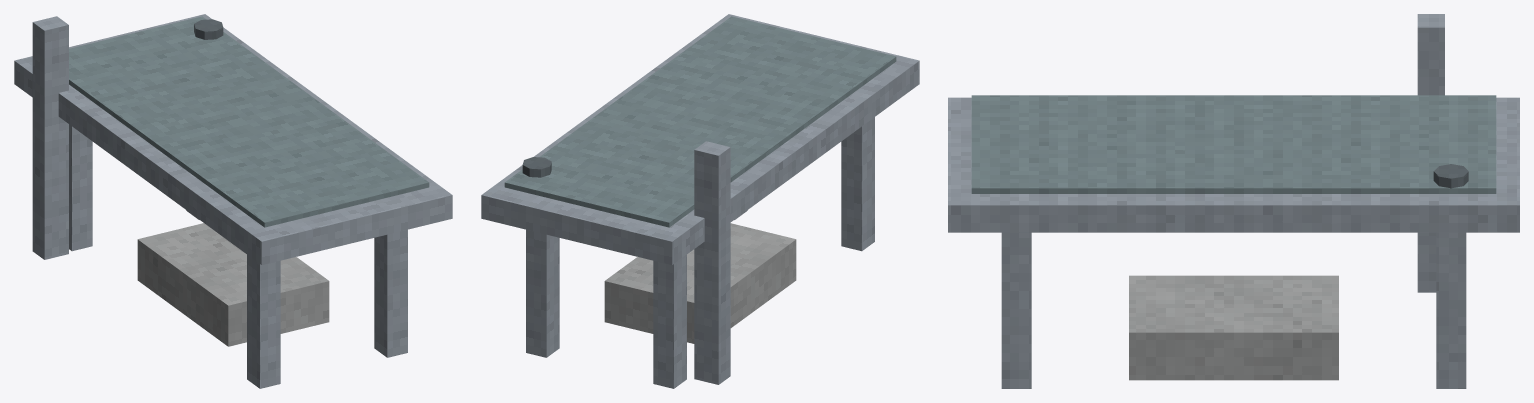
File: level_blockout_mortuary_prep_table.glb
3 renders of one model, left to right at view 1: azimuth 30°, elevation 25°; view 2: azimuth 150°, elevation 25°; view 3: azimuth 270°, elevation 25°, orthographic. The views are drawn at different scales.
Parts seen in each view (by area): view 1: level_blockout_mortuary_prep_table; view 2: level_blockout_mortuary_prep_table; view 3: level_blockout_mortuary_prep_table.
Boxes of the visible parts, x1=… form: level_blockout_mortuary_prep_table: x1=14, y1=14, x2=452, y2=388; level_blockout_mortuary_prep_table: x1=481, y1=14, x2=919, y2=388; level_blockout_mortuary_prep_table: x1=948, y1=14, x2=1519, y2=388.
Size of the model in its own units: 1.09 by 1.22 by 2.29.
4 materials, 4 textured.
